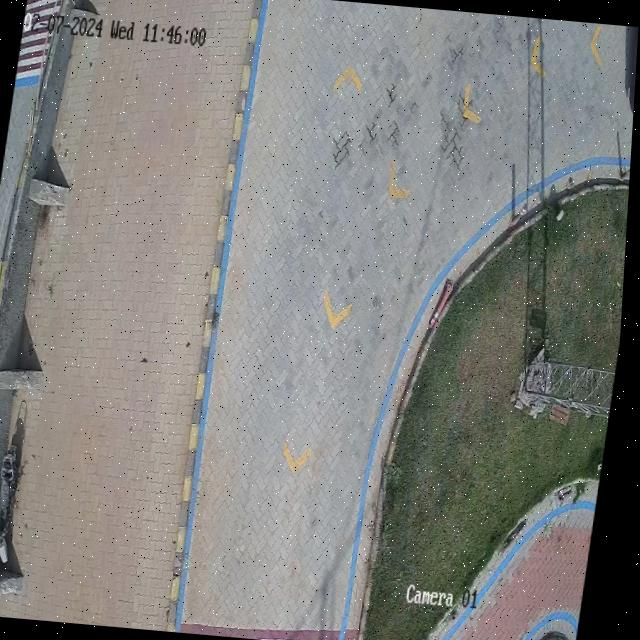car: (626, 26, 639, 112)
